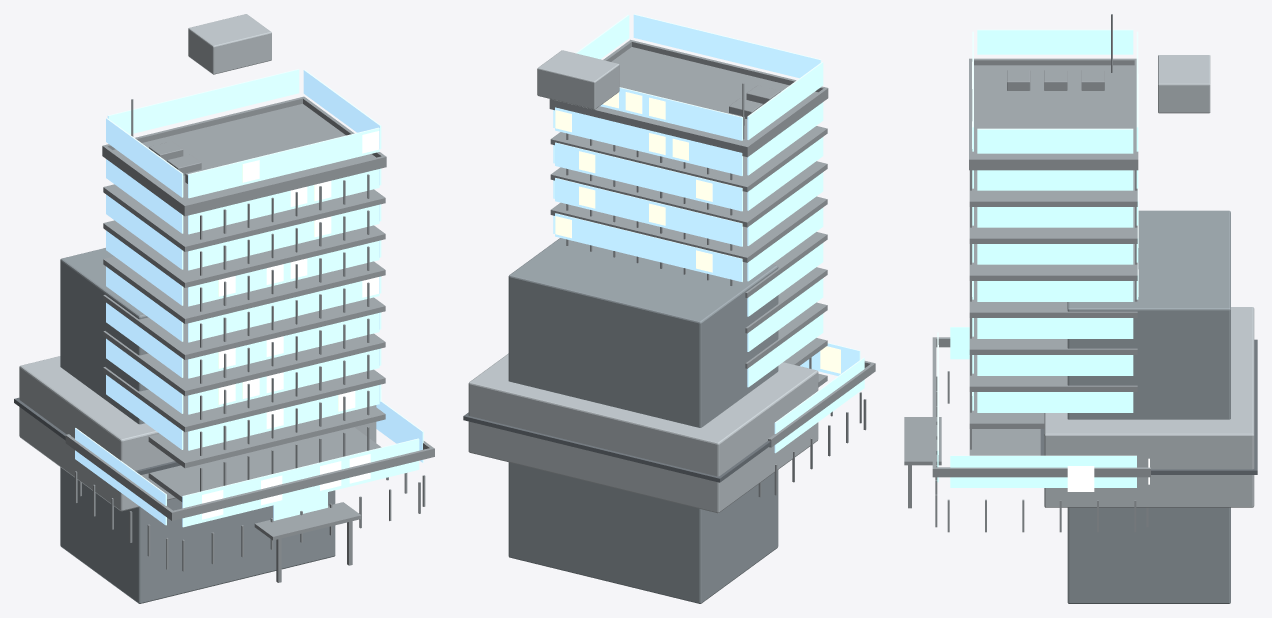
File: office.glb
3 renders of one model, left to right at view 1: azimuth 30°, elevation 25°; view 2: azimuth 150°, elevation 25°; view 3: azimuth 270°, elevation 25°, orthographic. The views are drawn at different scales.
Visible parts, largest first — view 1: trim_metal, glass_cool, wall_dark, wall_panel, window_lit, roof_slab; view 2: wall_dark, glass_cool, wall_panel, trim_metal, window_lit, roof_slab; view 3: trim_metal, wall_dark, glass_cool, wall_panel, roof_slab, window_lit.
Boxes of the visible parts, bbox=[...] form: trim_metal: bbox=[65, 96, 434, 582]; glass_cool: bbox=[75, 69, 423, 527]; wall_dark: bbox=[60, 248, 335, 603]; wall_panel: bbox=[19, 14, 376, 511]; window_lit: bbox=[202, 131, 381, 519]; roof_slab: bbox=[14, 397, 180, 474]; wall_dark: bbox=[508, 238, 778, 603]; glass_cool: bbox=[553, 14, 864, 453]; wall_panel: bbox=[468, 50, 818, 513]; trim_metal: bbox=[549, 39, 875, 496]; window_lit: bbox=[555, 92, 840, 373]; roof_slab: bbox=[463, 412, 770, 482]; trim_metal: bbox=[904, 14, 1150, 532]; wall_dark: bbox=[1067, 210, 1230, 603]; glass_cool: bbox=[937, 29, 1138, 487]; wall_panel: bbox=[1044, 55, 1254, 507]; roof_slab: bbox=[1040, 339, 1257, 474]; window_lit: bbox=[938, 62, 1149, 491].
Bounding box in the file's own units: 27.98 × 48.3 × 30.3.
